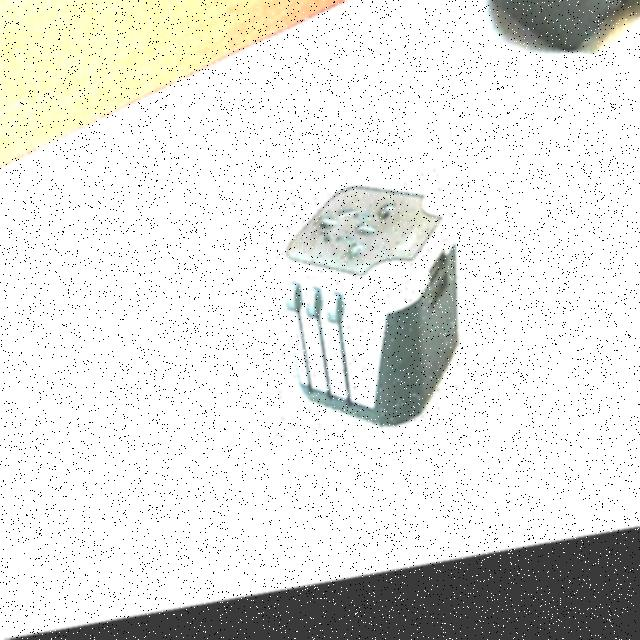adapter: (277, 178, 459, 456)
